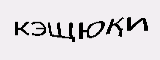И: (125, 15, 150, 33)
К: (14, 19, 30, 39)
Щ: (48, 21, 77, 44)
Э: (31, 21, 46, 38)
Ю: (78, 19, 105, 42)
Қ: (104, 15, 124, 39)
